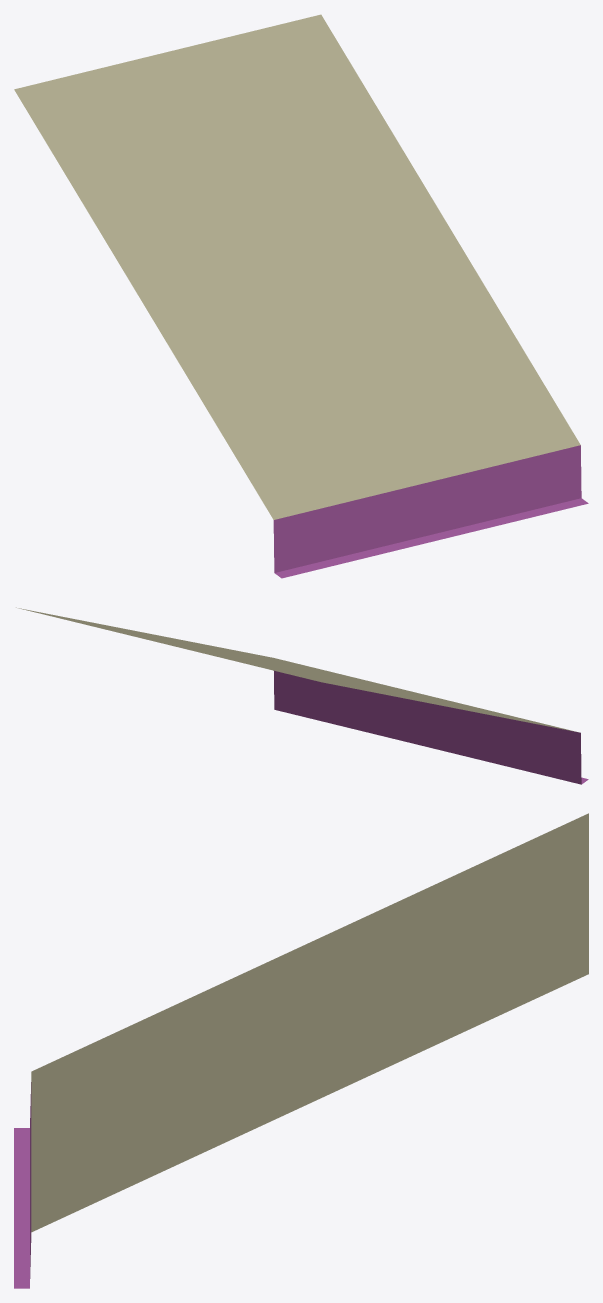
The model's file is WarehouseRoof.fbx.
3 renders of one model, top to bottom at view 1: azimuth 30°, elevation 25°; view 2: azimuth 150°, elevation 25°; view 3: azimuth 270°, elevation 25°, orthographic. The views are drawn at different scales.
Parts seen in each view (by area): view 1: polySurface4; view 2: polySurface4; view 3: polySurface4.
Part boxes in pixels (<box>): polySurface4: <box>14,14,588,578</box>; polySurface4: <box>16,607,588,784</box>; polySurface4: <box>14,813,588,1288</box>.
Size of the model in its own units: 10 by 9.12 by 15.1.
